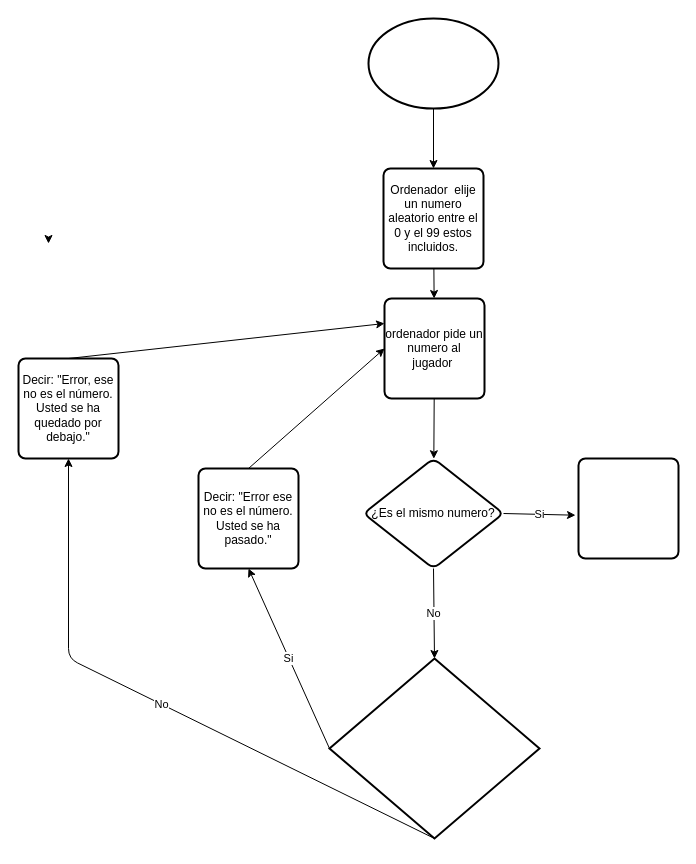
The diagram is 696 pixels wide and 864 high, and some of its shapes have lost their labels. Each missing label, with the centre of its shape:
Decir: "Enhorabuena!! Usted ha adivinado el numero.": point 628,508
INICIO: point 433,63
¿El numero esta por encima del elegido por el ordenador?: point 434,748
